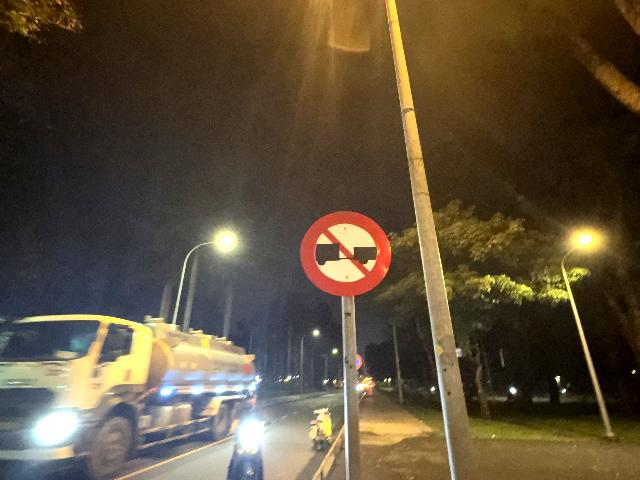cam-xe-somi-romooc: (299, 211, 392, 297)
